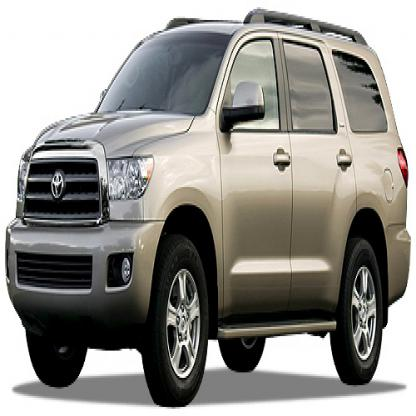Vehicle: (2, 4, 412, 414)
